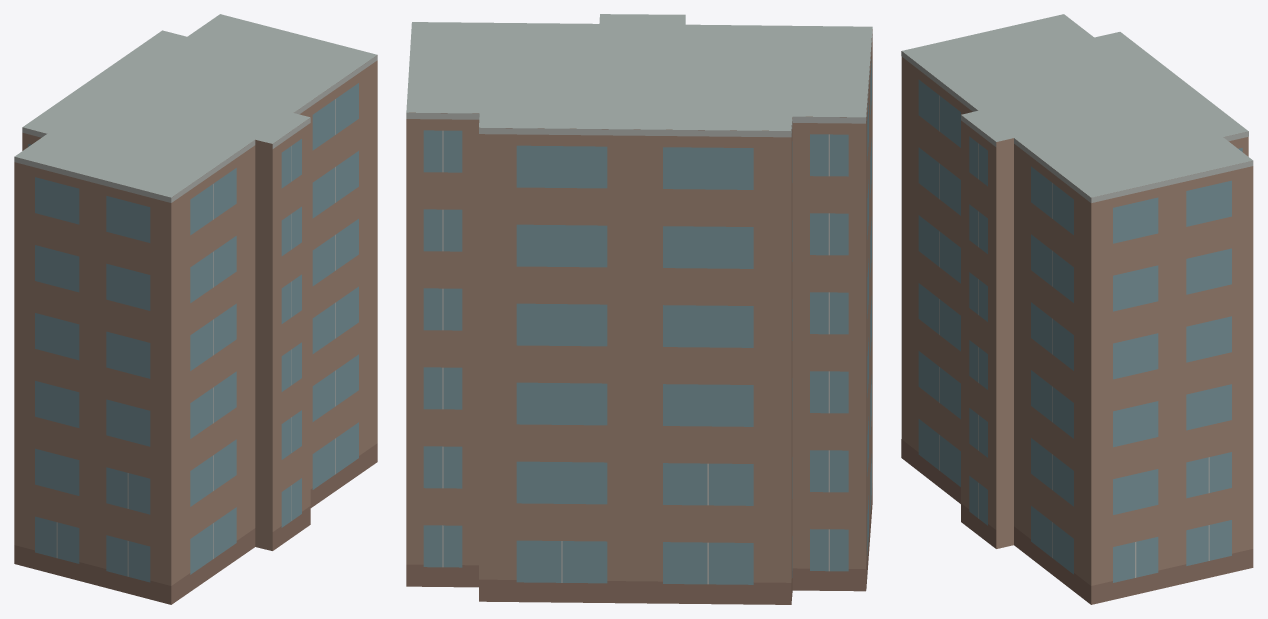
Rendered from survey-upis-32705186.glb.
3 views of the same model, side by side, from view 1: azimuth 30°, elevation 25°; view 2: azimuth 150°, elevation 25°; view 3: azimuth 270°, elevation 25° (orthographic). The views are drawn at different scales.
Parts seen in each view (by area): view 1: survey-upis-32705186.tmp; view 2: survey-upis-32705186.tmp; view 3: survey-upis-32705186.tmp.
Part boxes in pixels (x1,y1,x2,y2): survey-upis-32705186.tmp: (14,14,377,604); survey-upis-32705186.tmp: (406,14,872,604); survey-upis-32705186.tmp: (901,14,1253,604).
Size of the model in its own units: 17.73 by 18.3 by 14.34.
